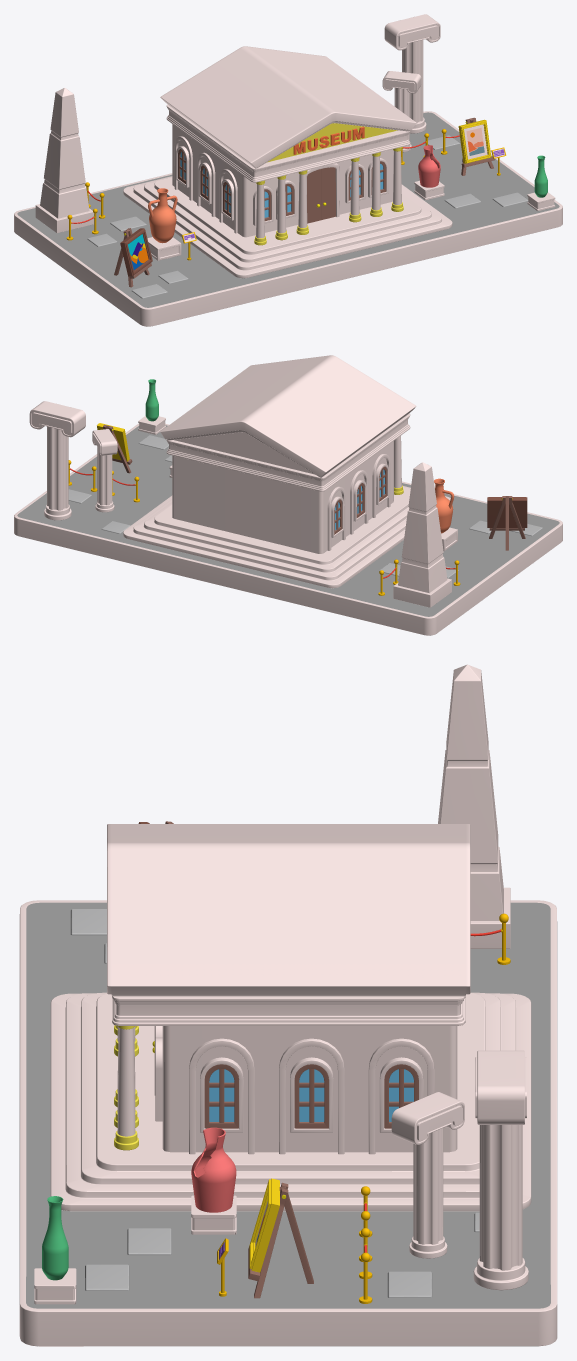
Rendered from Public_Island_9.glb.
The picture shows the model from 3 angles, top to bottom: view 1: azimuth 30°, elevation 25°; view 2: azimuth 150°, elevation 25°; view 3: azimuth 270°, elevation 25°; orthographic projection. The views are drawn at different scales.
Visible parts, largest first — view 1: Public_9_Museum_1, Public_9_Base_1, Public_9_Exhibit_Column_1, Public_9_Exhibit_Column_2, Public_9_Exhibit_Vase_1, Public_9_Painting_1, Public_9_Exhibit_Column_3, Public_9_Exhibit_Vase_3, Public_9_Painting_2, Public_9_Exhibit_Vase_2; view 2: Public_9_Museum_1, Public_9_Base_1, Public_9_Exhibit_Column_1, Public_9_Exhibit_Column_2, Public_9_Exhibit_Column_3, Public_9_Exhibit_Vase_1, Public_9_Painting_2, Public_9_Exhibit_Vase_2, Public_9_Picture_Stand_2, Public_9_Painting_1; view 3: Public_9_Museum_1, Public_9_Base_1, Public_9_Exhibit_Column_2, Public_9_Exhibit_Column_1, Public_9_Exhibit_Column_3, Public_9_Exhibit_Vase_3, Public_9_Exhibit_Vase_2, Public_9_Picture_Stand_1, Public_9_Painting_1.
Part boxes in pixels (box(x1,y1,x2,y2)): Public_9_Museum_1: box(123, 46, 452, 278); Public_9_Base_1: box(14, 111, 562, 326); Public_9_Exhibit_Column_1: box(35, 88, 93, 233); Public_9_Exhibit_Column_2: box(384, 14, 440, 133); Public_9_Exhibit_Vase_1: box(147, 188, 181, 260); Public_9_Painting_1: box(458, 119, 491, 163); Public_9_Exhibit_Column_3: box(382, 71, 421, 152); Public_9_Exhibit_Vase_3: box(414, 145, 444, 200); Public_9_Painting_2: box(120, 228, 152, 276); Public_9_Exhibit_Vase_2: box(527, 155, 555, 211); Public_9_Museum_1: box(123, 355, 450, 588); Public_9_Base_1: box(14, 423, 562, 635); Public_9_Exhibit_Column_1: box(393, 462, 451, 607); Public_9_Exhibit_Column_2: box(29, 401, 85, 520); Public_9_Exhibit_Column_3: box(92, 429, 117, 512); Public_9_Exhibit_Vase_1: box(434, 478, 457, 551); Public_9_Painting_2: box(487, 497, 527, 527); Public_9_Exhibit_Vase_2: box(138, 379, 165, 434); Public_9_Picture_Stand_2: box(489, 496, 525, 550); Public_9_Painting_1: box(97, 423, 129, 461); Public_9_Museum_1: box(50, 824, 531, 1211); Public_9_Base_1: box(19, 900, 557, 1346); Public_9_Exhibit_Column_2: box(473, 1050, 528, 1290); Public_9_Exhibit_Column_1: box(438, 664, 510, 948); Public_9_Exhibit_Column_3: box(391, 1092, 464, 1258); Public_9_Exhibit_Vase_3: box(191, 1127, 236, 1234); Public_9_Exhibit_Vase_2: box(34, 1196, 76, 1304); Public_9_Picture_Stand_1: box(248, 1182, 313, 1298); Public_9_Painting_1: box(249, 1178, 279, 1272).
Bounding box in the file's own units: 31.86 × 10.89 × 17.59.
Materials: 18 (18 with a texture image).
